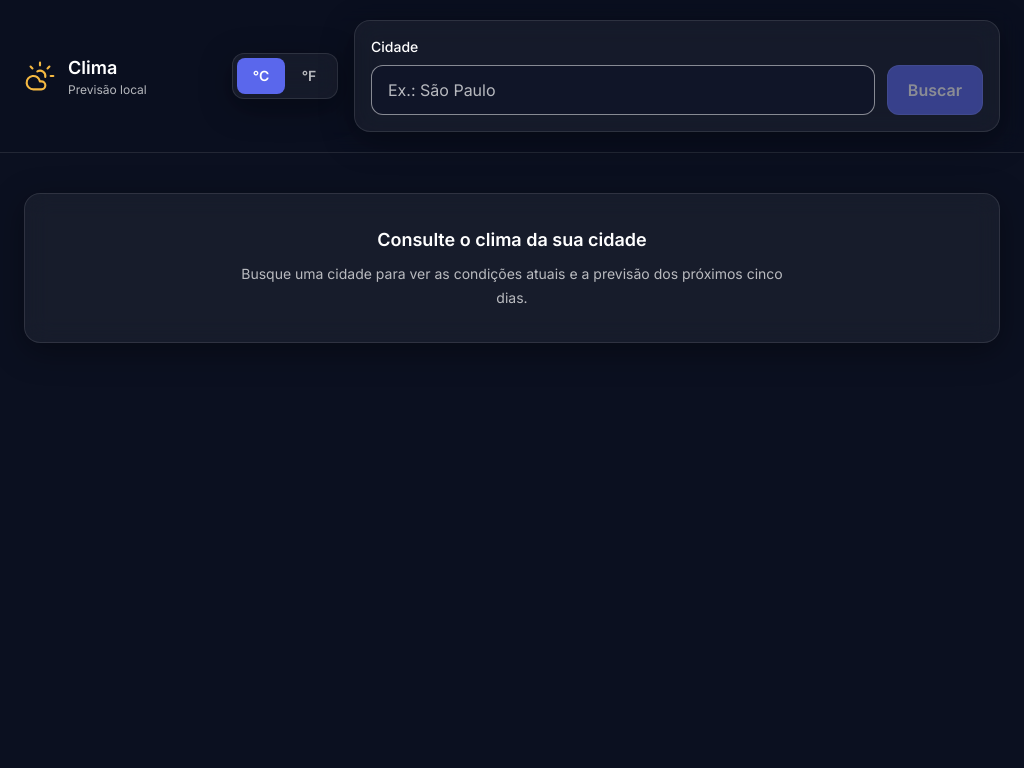
Test case: App › mostra a previsão válida quando o clima atual não está disponível
In the search field labelled "Cidade": (623, 90) [371, 65, 875, 115], type "São Paulo"
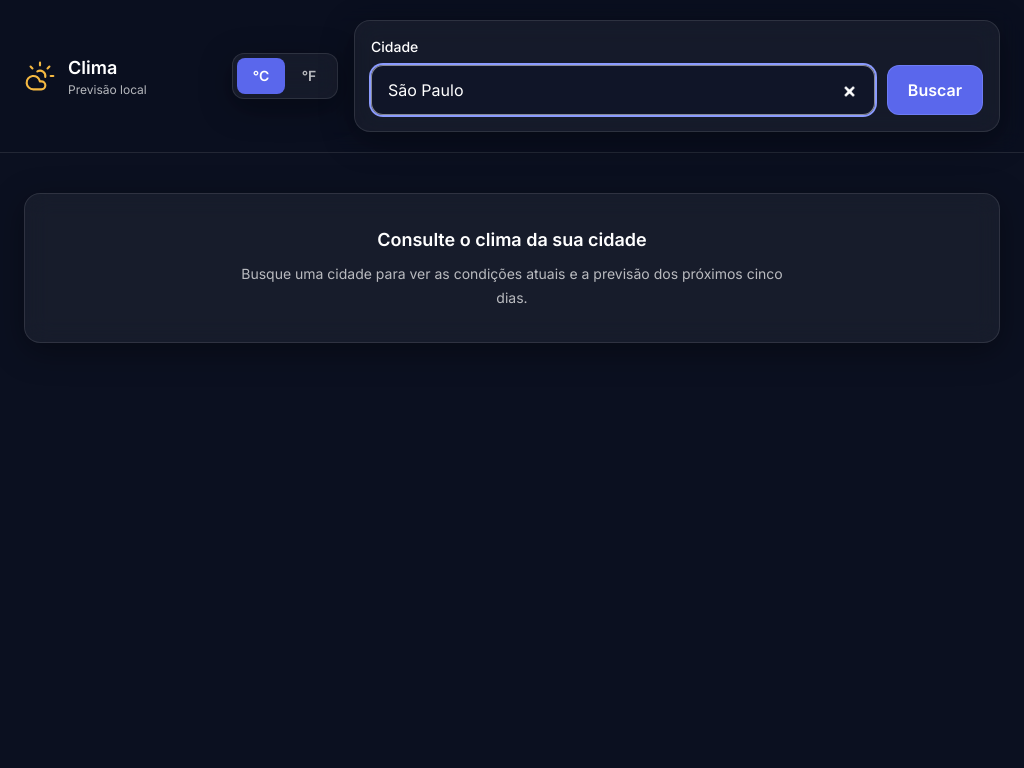
Click the button "Buscar": click(935, 90) [887, 65, 983, 115]
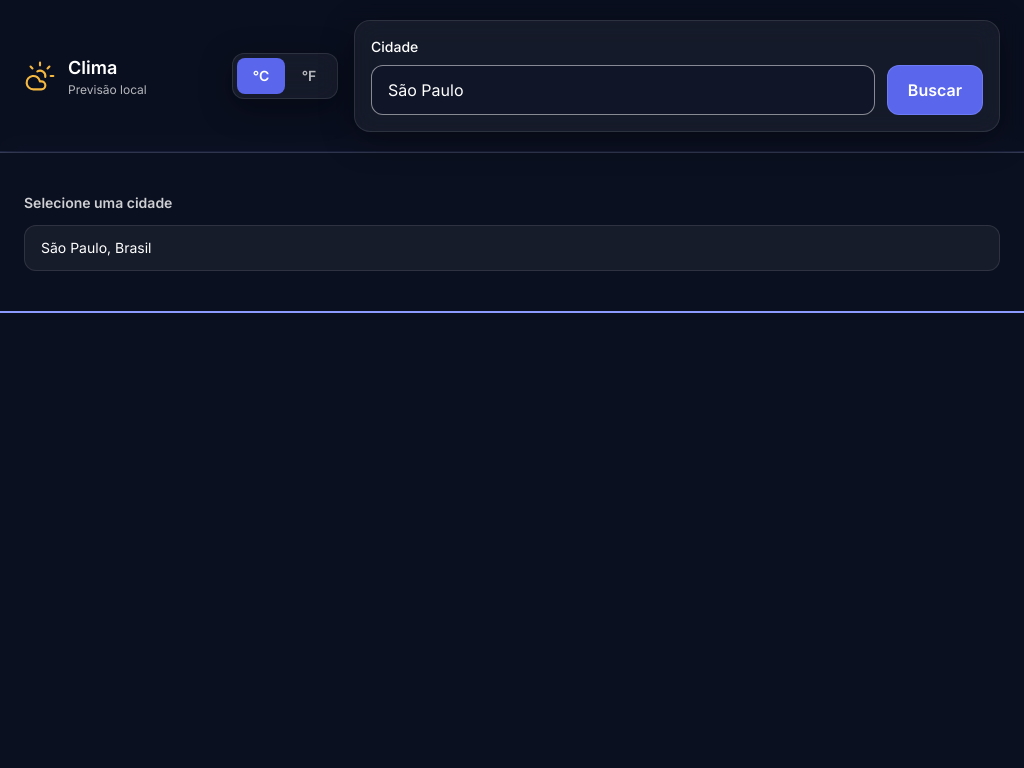
Click the button "São Paulo, Brasil": click(96, 248) [24, 225, 1000, 271]
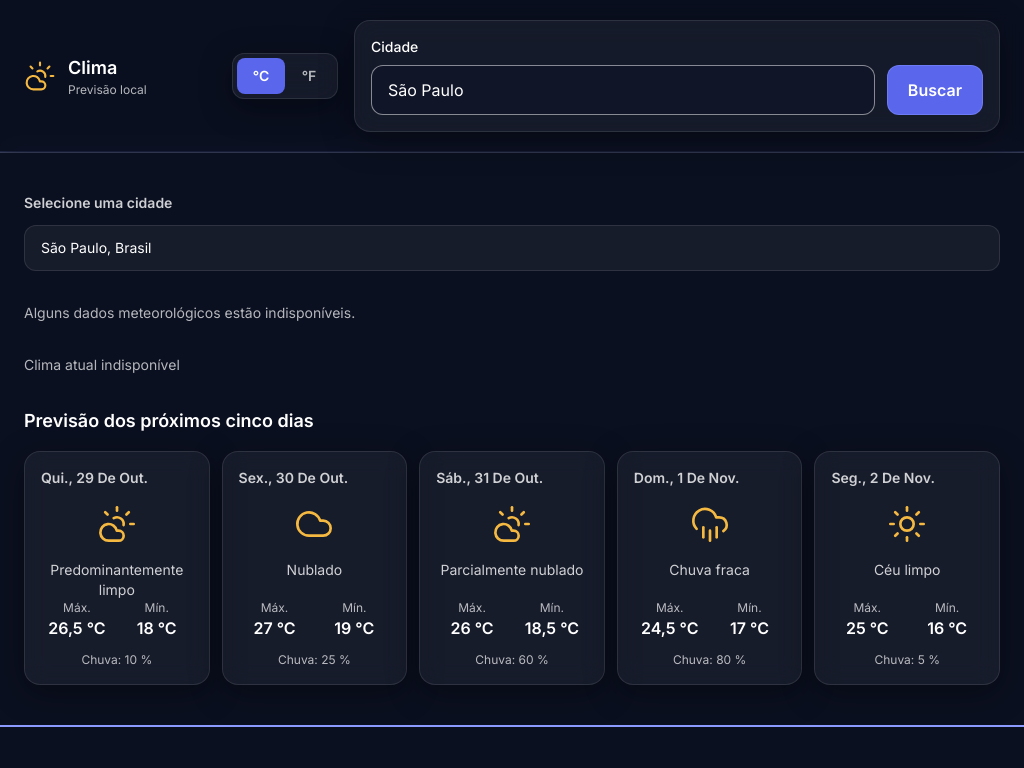
Now the text "Clima atual indisponível" is shown, box [24, 356, 180, 373]
Now the text "Alguns dados meteorológicos estão indisponíveis." is shown, box [24, 304, 355, 321]
